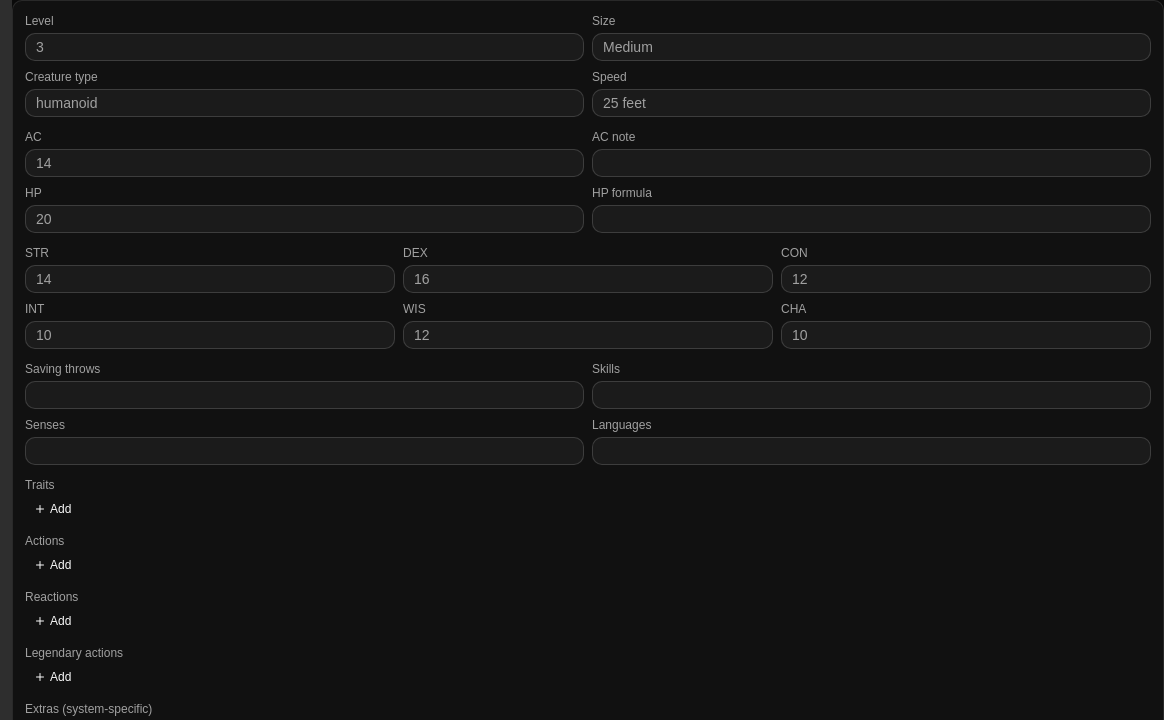
Scenario: stat block ability editor › keeps score semantics and shows no conversion note for a non-Pathfinder block
Replace the text in the number field labelled "STR" with "16" at {"x": 210, "y": 279}, box [25,265,395,293]
(page scrolled)
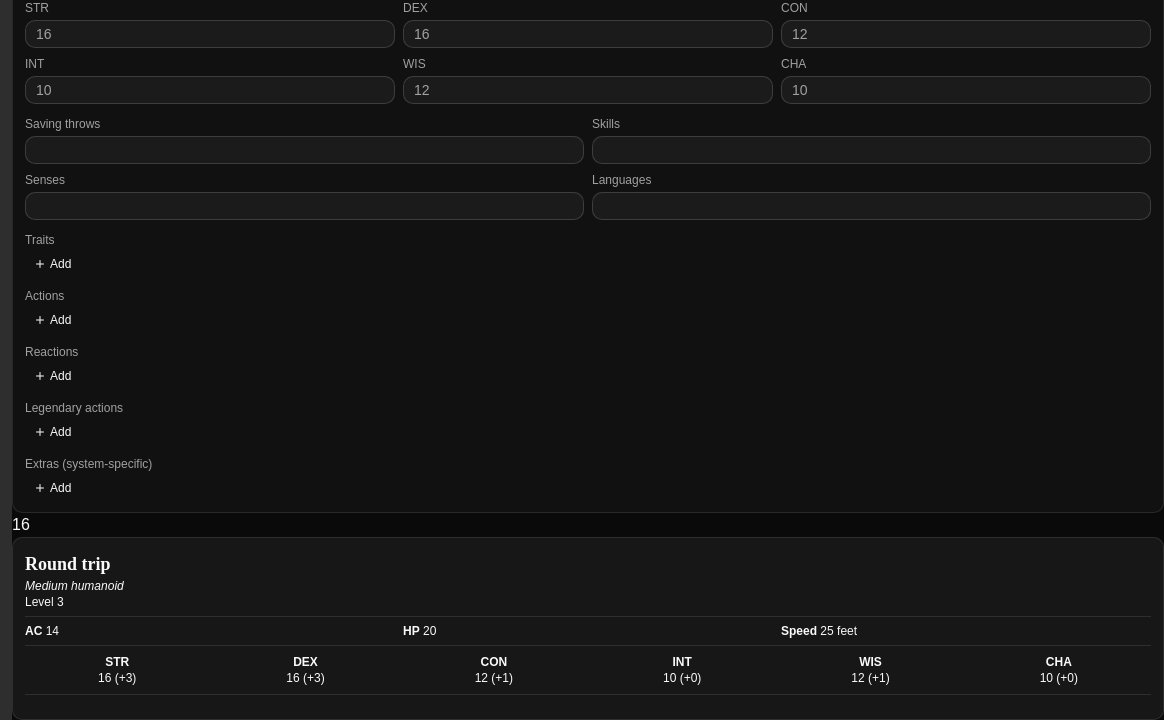
Now the text with test id "stored-str" reads "16", box [12,516,30,533]
